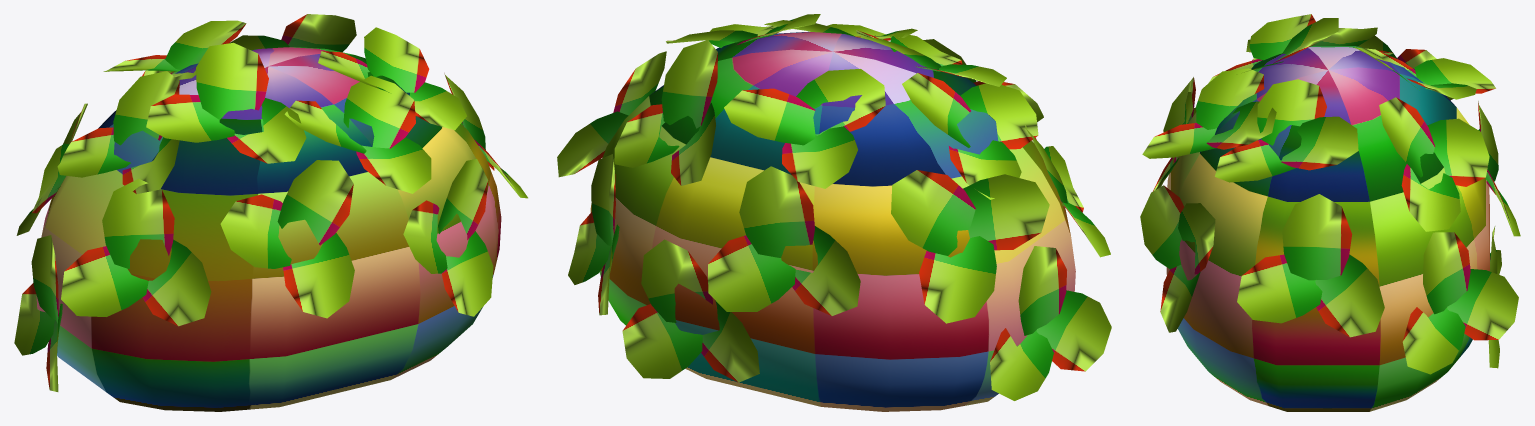
The model's file is Bush.fbx.
The picture shows the model from 3 angles, left to right: view 1: azimuth 30°, elevation 25°; view 2: azimuth 150°, elevation 25°; view 3: azimuth 270°, elevation 25°; orthographic projection. The views are drawn at different scales.
Parts seen in each view (by area): view 1: Leaf_Petal17; view 2: Leaf_Petal17; view 3: Leaf_Petal17.
Part boxes in pixels (left/top/right/bottom): Leaf_Petal17: left=14, top=14, right=527, bottom=411; Leaf_Petal17: left=557, top=14, right=1111, bottom=411; Leaf_Petal17: left=1140, top=14, right=1520, bottom=411.
Size of the model in its own units: 92.11 by 56.62 by 67.15.
